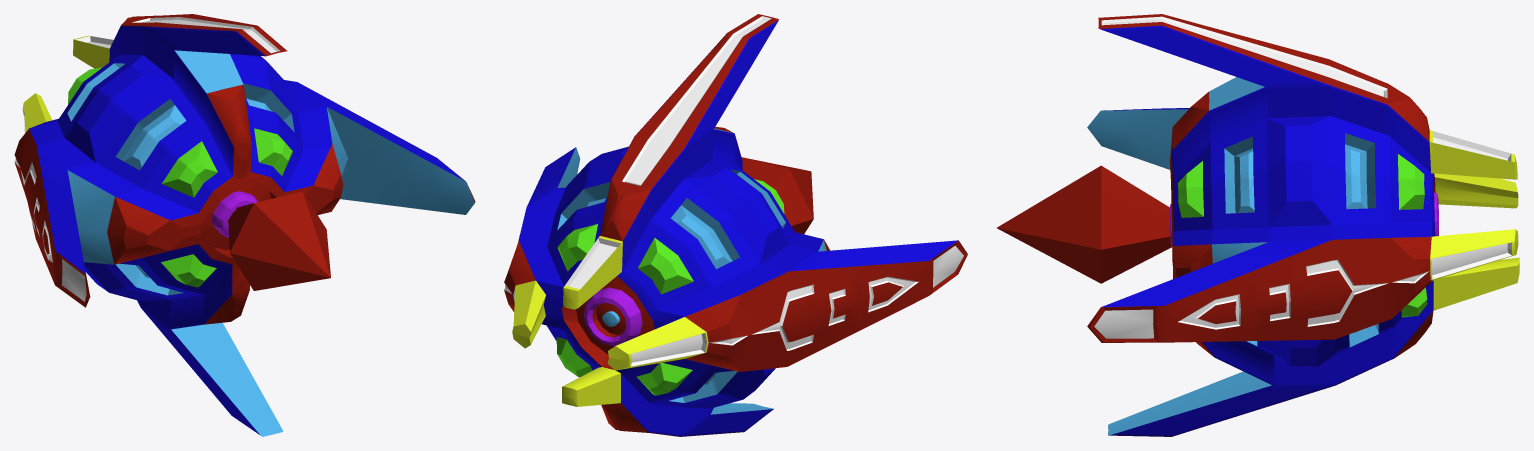
Rendered from chaserdrone_high.fbx.
3 views of the same model, side by side, from view 1: azimuth 30°, elevation 25°; view 2: azimuth 150°, elevation 25°; view 3: azimuth 270°, elevation 25° (orthographic). The views are drawn at different scales.
Visible parts, largest first — view 1: chaserdrone_high, crystal_high; view 2: chaserdrone_high, crystal_high; view 3: chaserdrone_high, crystal_high.
Part boxes in pixels (x1,y1,x2,y2): chaserdrone_high: [14, 14, 475, 436]; crystal_high: [228, 191, 330, 290]; chaserdrone_high: [504, 14, 967, 436]; crystal_high: [741, 157, 813, 234]; chaserdrone_high: [1087, 14, 1519, 436]; crystal_high: [997, 165, 1171, 283].
Size of the model in its own units: 54.15 by 51.88 by 59.68.
